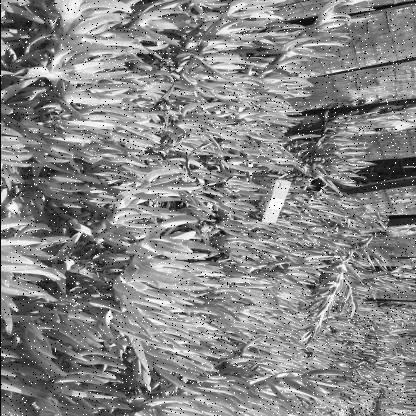cardboard: (248, 176, 291, 224)
